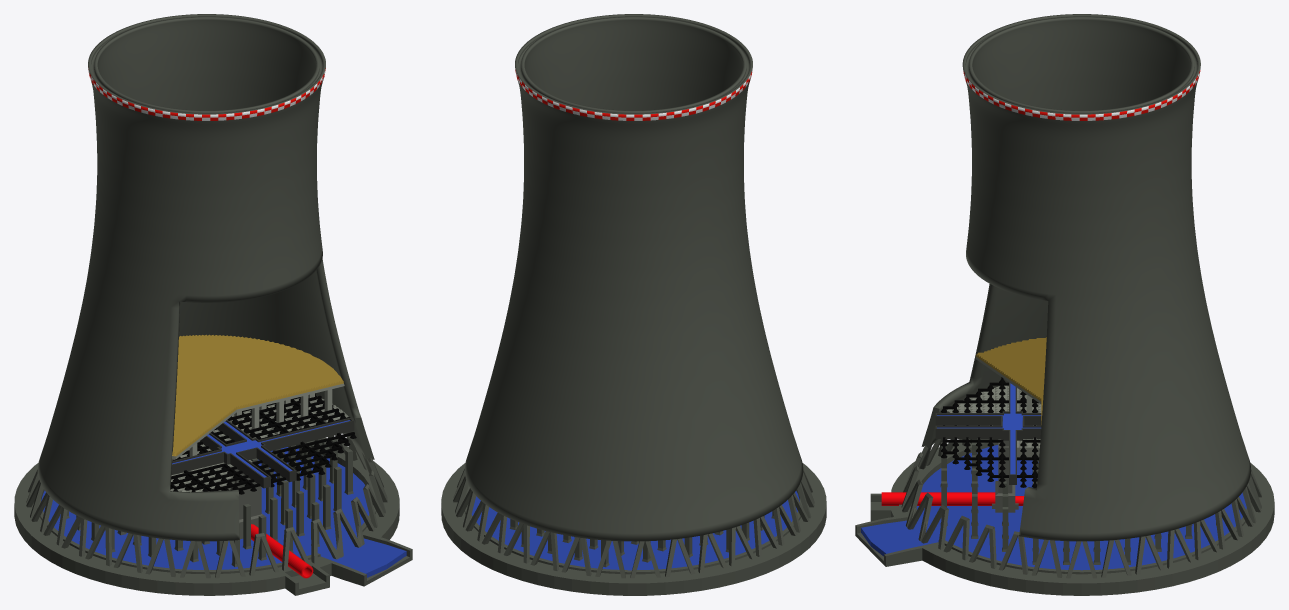
The model's file is models1.glb.
3 renders of one model, left to right at view 1: azimuth 30°, elevation 25°; view 2: azimuth 150°, elevation 25°; view 3: azimuth 270°, elevation 25°, orthographic.
Parts seen in each view (by area): view 1: Object.011, Object.001, Object.010, Water.002, Object.007, Object.008, Object.009, Object.006, Water.001, Object.002, Object.005; view 2: Object.011, Object.001, Water.002; view 3: Object.011, Object.001, Water.002, Object.007, Object.008, Object.010, Object.006, Object.005, Water.001, Object.002.
Boxes of the visible parts, <box> form: Object.011: <box>37,14,374,541</box>; Object.001: <box>14,435,412,595</box>; Object.010: <box>172,334,343,456</box>; Water.002: <box>41,447,406,577</box>; Object.007: <box>170,393,356,494</box>; Object.008: <box>171,417,354,488</box>; Object.009: <box>172,383,344,460</box>; Object.006: <box>170,398,348,492</box>; Water.001: <box>172,420,350,477</box>; Object.002: <box>230,469,264,539</box>; Object.005: <box>251,524,313,578</box>; Object.011: <box>464,14,803,541</box>; Object.001: <box>441,463,826,595</box>; Water.002: <box>471,491,799,570</box>; Object.011: <box>921,14,1251,541</box>; Object.001: <box>855,437,1274,595</box>; Water.002: <box>861,445,1246,570</box>; Object.007: <box>941,377,1040,487</box>; Object.008: <box>935,382,1041,484</box>; Object.010: <box>976,337,1046,424</box>; Object.006: <box>946,385,1041,457</box>; Object.005: <box>881,492,995,505</box>; Water.001: <box>937,383,1041,474</box>; Object.002: <box>992,439,1018,512</box>.
Bounding box in the file's own units: 1.99 × 2.56 × 2.16.
